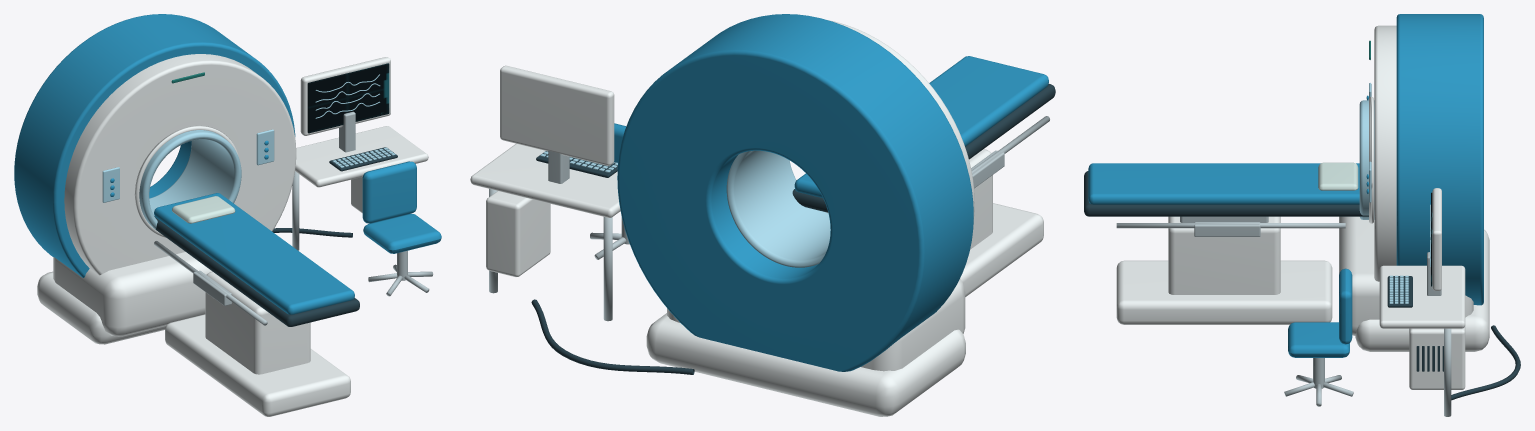
Rendered from scan.glb.
3 views of the same model, side by side, from view 1: azimuth 30°, elevation 25°; view 2: azimuth 150°, elevation 25°; view 3: azimuth 270°, elevation 25° (orthographic). The views are drawn at different scales.
Parts seen in each view (by area): view 1: scan__Powder coat • warm porcelain, scan__Satin cobalt plastic, scan__Pale blue polymer, scan__Diagnostic glass • fictional, scan__Rubber and screen bezel, scan__Brushed aluminium, scan__Linen upholstery; view 2: scan__Satin cobalt plastic, scan__Powder coat • warm porcelain, scan__Pale blue polymer, scan__Rubber and screen bezel, scan__Brushed aluminium; view 3: scan__Powder coat • warm porcelain, scan__Satin cobalt plastic, scan__Rubber and screen bezel, scan__Brushed aluminium, scan__Pale blue polymer, scan__Linen upholstery.
Boxes of the visible parts, box(x1,y1,x2,y2) form: scan__Powder coat • warm porcelain: box(37, 54, 428, 416); scan__Satin cobalt plastic: box(14, 14, 441, 314); scan__Pale blue polymer: box(102, 74, 395, 229); scan__Diagnostic glass • fictional: box(307, 63, 389, 133); scan__Rubber and screen bezel: box(154, 147, 397, 326); scan__Brushed aluminium: box(154, 111, 433, 325); scan__Linen upholstery: box(172, 196, 235, 223); scan__Satin cobalt plastic: box(614, 14, 1048, 371); scan__Powder coat • warm porcelain: box(470, 20, 1043, 416); scan__Pale blue polymer: box(540, 150, 830, 267); scan__Rubber and screen bezel: box(531, 84, 1055, 374); scan__Brushed aluminium: box(489, 116, 1049, 321); scan__Powder coat • warm porcelain: box(1116, 25, 1489, 389); scan__Satin cobalt plastic: box(1088, 14, 1483, 357); scan__Rubber and screen bezel: box(1084, 171, 1520, 400); scan__Brushed aluminium: box(1116, 216, 1451, 416); scan__Pale blue polymer: box(1359, 83, 1430, 303); scan__Linen upholstery: box(1318, 162, 1358, 190).
Size of the model in its own units: 3 by 2.08 by 2.96.
8 materials, 2 textured.
